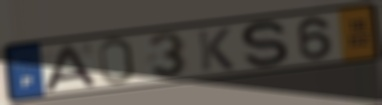0: (97, 36, 138, 87)
3: (144, 30, 190, 80)
6: (295, 14, 334, 62)
A: (41, 42, 99, 94)
K: (195, 26, 237, 74)
S: (238, 19, 291, 71)
